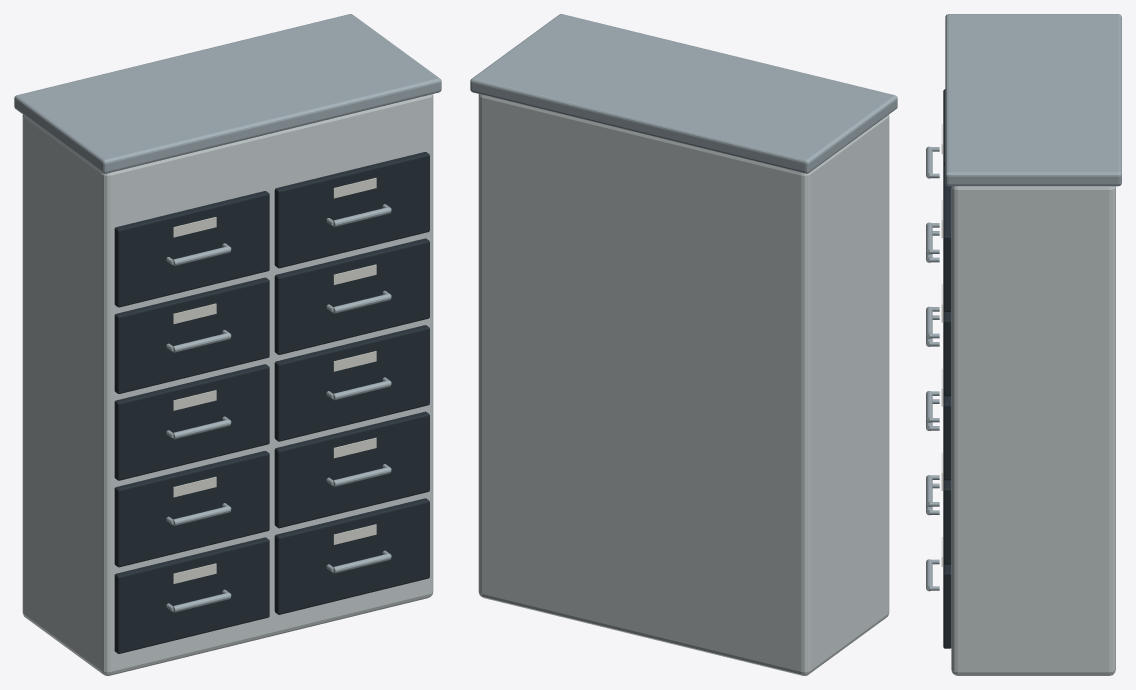
Rendered from SC_RecordArchive.fbx.
The picture shows the model from 3 angles, left to right: view 1: azimuth 30°, elevation 25°; view 2: azimuth 150°, elevation 25°; view 3: azimuth 270°, elevation 25°; orthographic projection. The views are drawn at different scales.
Visible parts, largest first — view 1: SC_RecordArchive; view 2: SC_RecordArchive; view 3: SC_RecordArchive.
Boxes of the visible parts, left/top/right/bottom form: SC_RecordArchive: left=14, top=14, right=441, bottom=675; SC_RecordArchive: left=470, top=14, right=897, bottom=675; SC_RecordArchive: left=926, top=14, right=1121, bottom=675.
Size of the model in its own units: 127 by 186 by 65.4.
